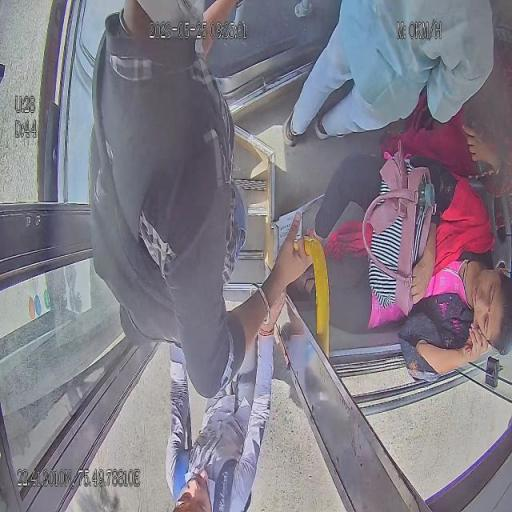persona: (88, 1, 313, 406), (304, 140, 511, 382), (281, 0, 496, 148), (164, 313, 314, 511)
